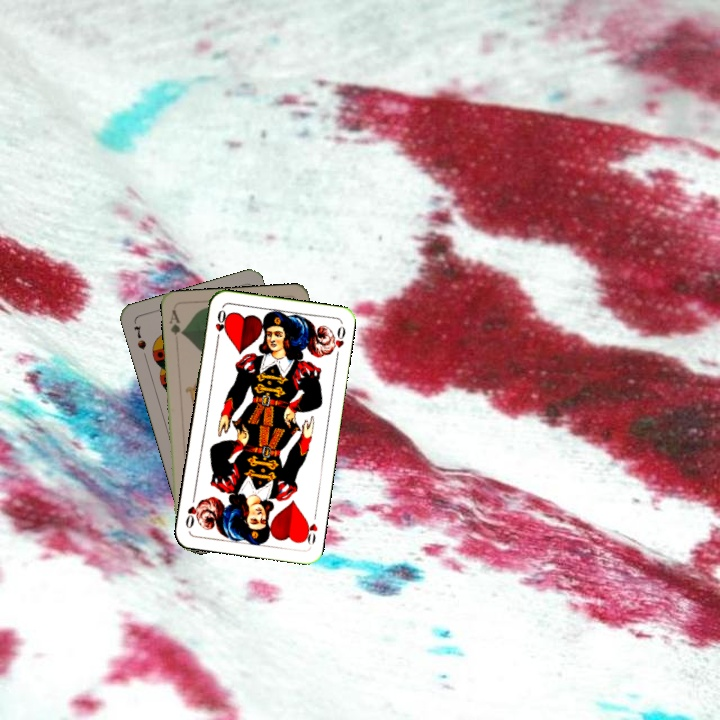GA: (165, 306, 186, 338)
HO: (299, 508, 320, 547), (211, 306, 229, 345)
S7: (130, 322, 149, 352)
